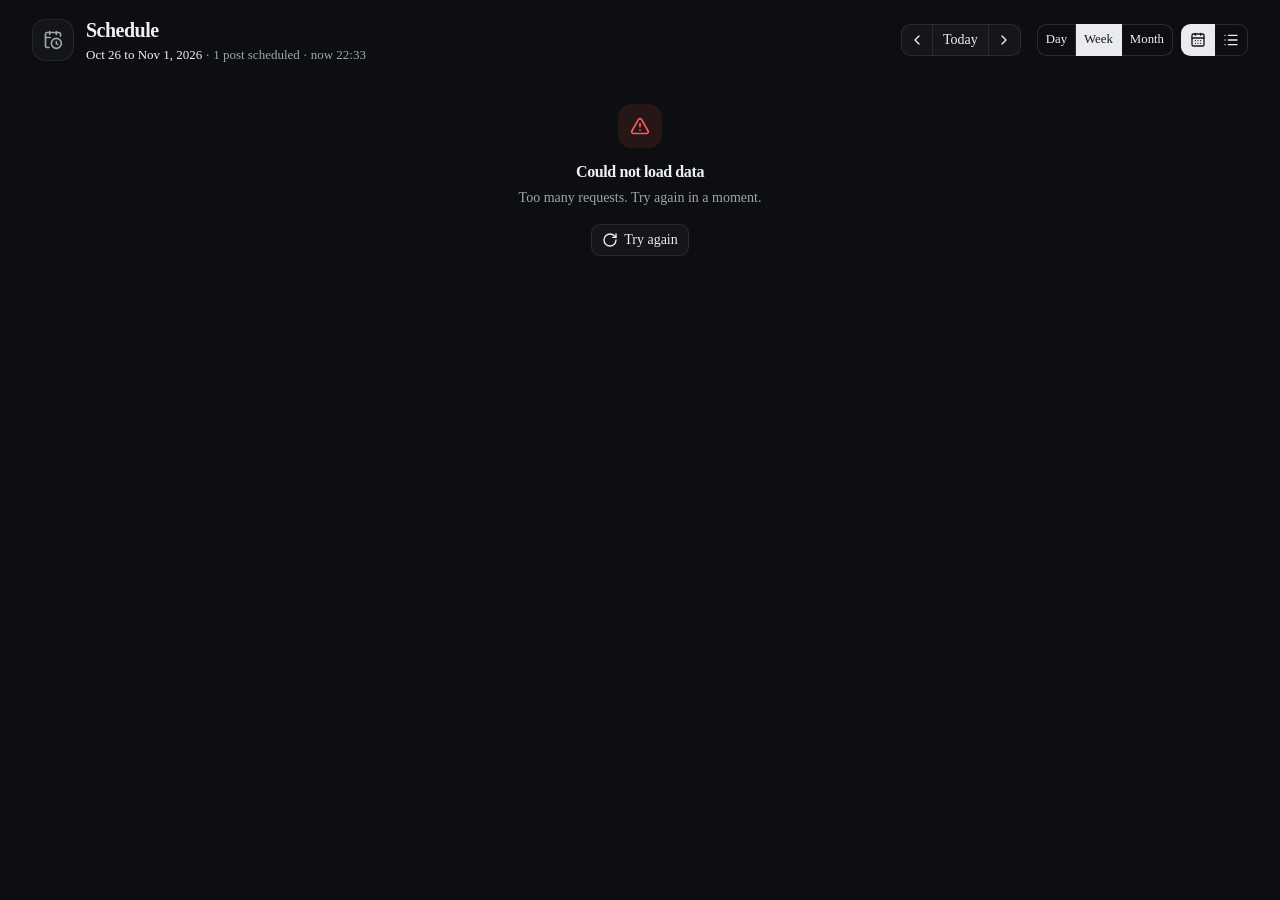
schedule page › a later page that fails is asked for once, and Try again loads the whole range again
The image size is (1280, 900).
What coordinates should you click on to do the following:
click the button "Try again"
I would click on:
 (640, 240)
Its box is [591, 224, 689, 256].
(page scrolled)
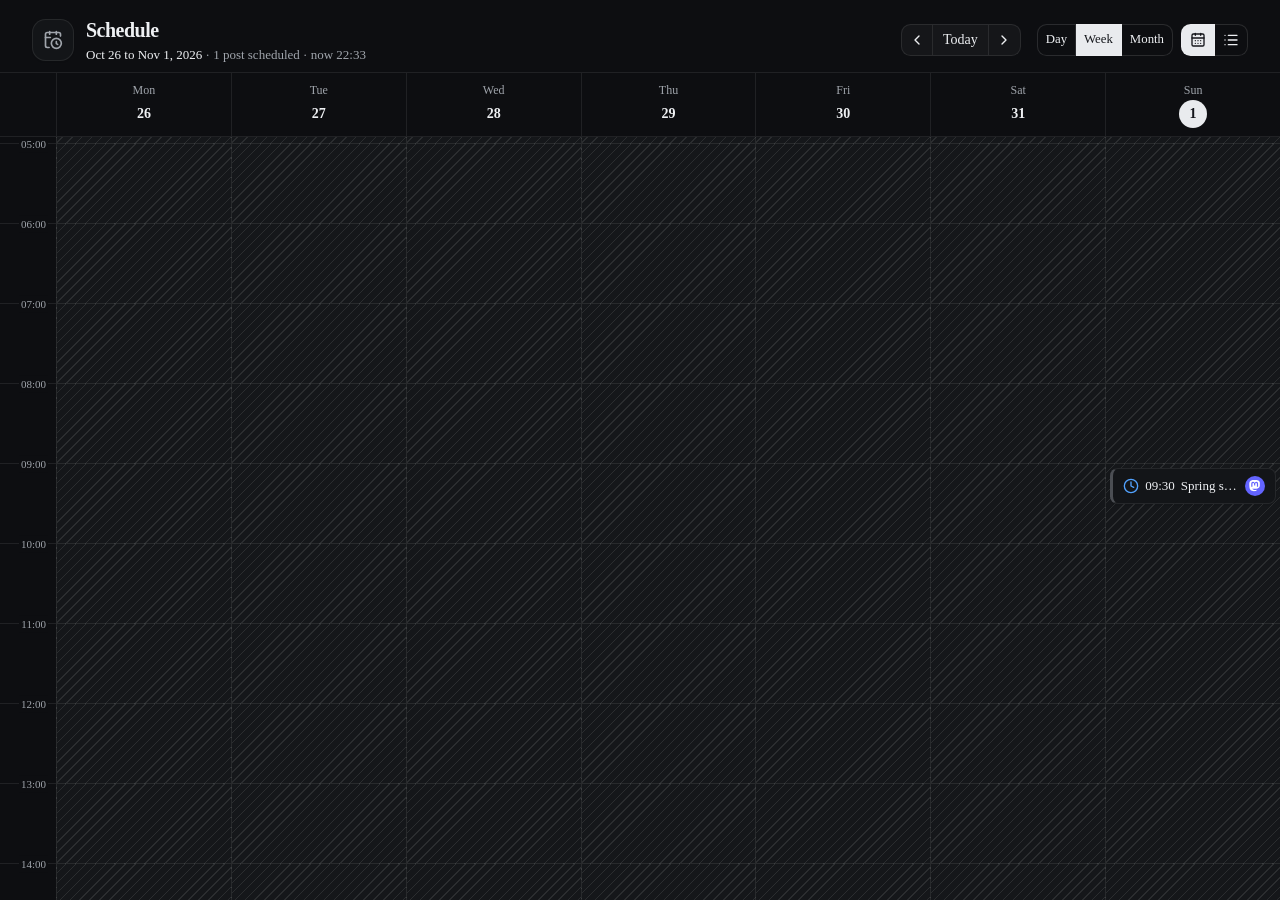
Check: the button with test id "schedule-entry" is shown, box [1110, 468, 1276, 504]
